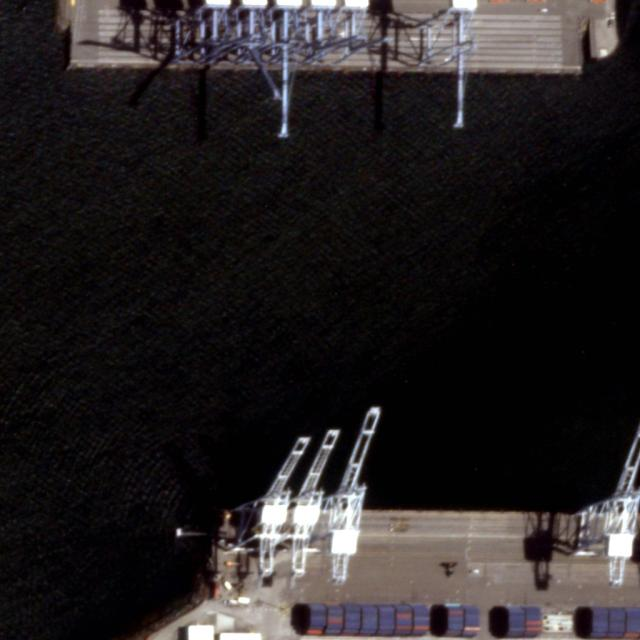crane: (257, 406, 381, 584), (572, 425, 638, 587)
